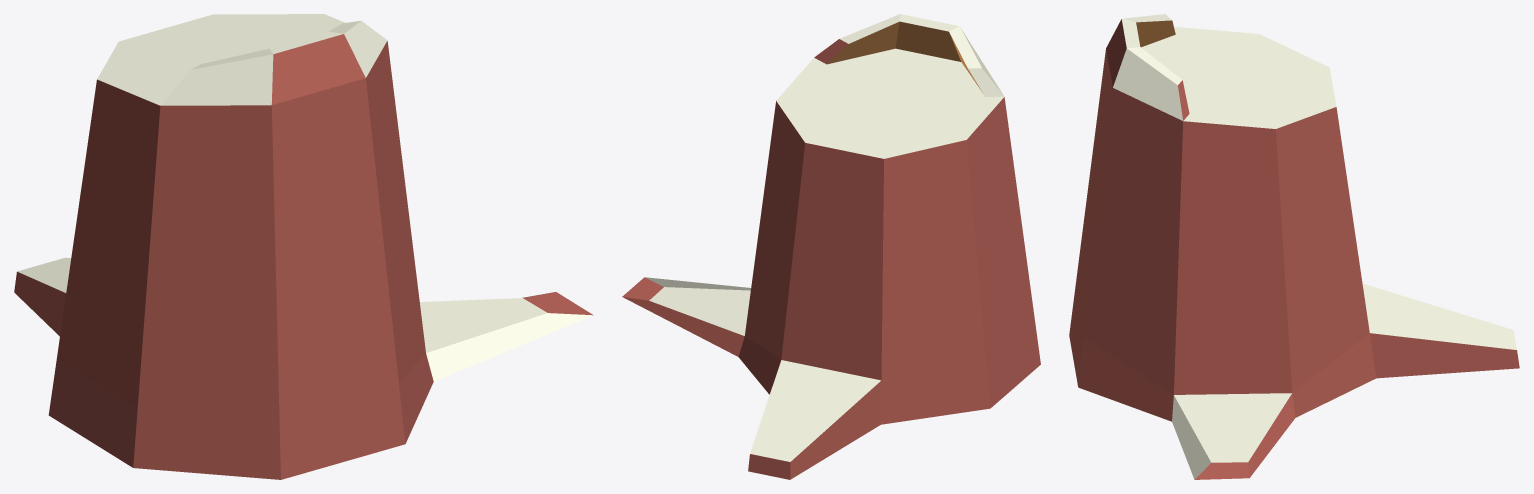
The model's file is Stump4_winter.FBX.
The picture shows the model from 3 angles, left to right: view 1: azimuth 30°, elevation 25°; view 2: azimuth 150°, elevation 25°; view 3: azimuth 270°, elevation 25°; orthographic projection. The views are drawn at different scales.
Parts seen in each view (by area): view 1: Penek elk.002; view 2: Penek elk.002; view 3: Penek elk.002.
Part boxes in pixels (x1=…): Penek elk.002: x1=14, y1=14, x2=593, y2=479; Penek elk.002: x1=622, y1=14, x2=1040, y2=479; Penek elk.002: x1=1069, y1=14, x2=1519, y2=479.
Size of the model in its own units: 1.25 by 0.9855 by 1.2.
